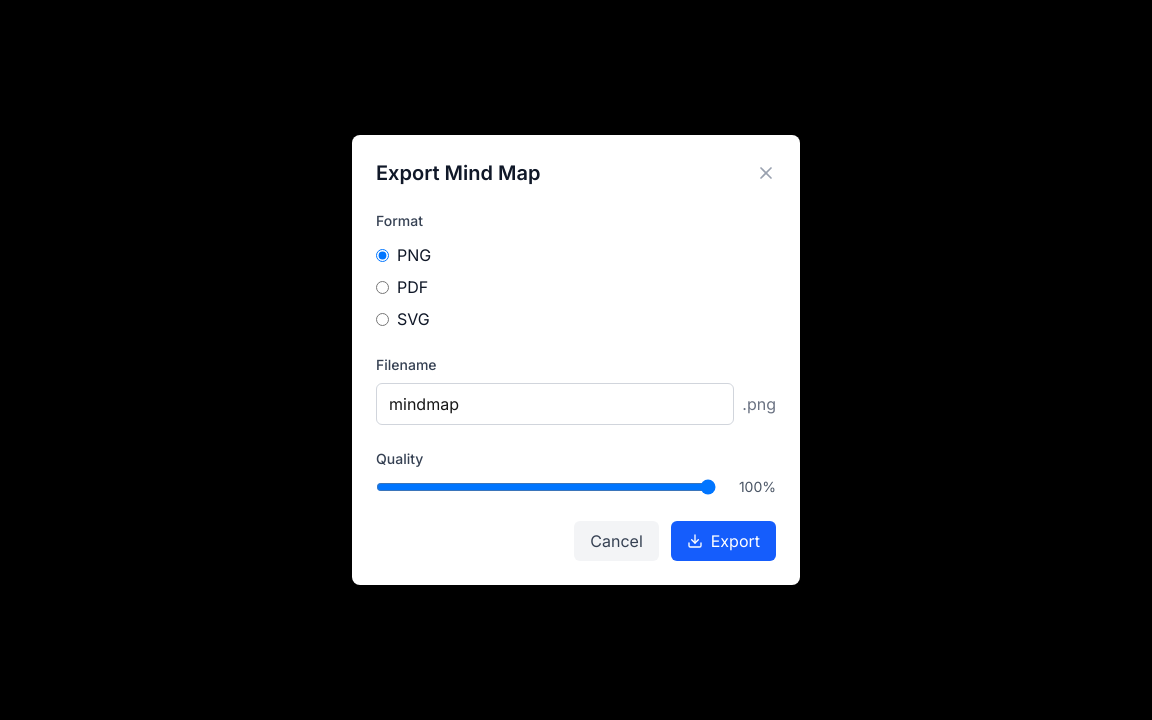
Test: ExportDialog › should hide quality slider for PDF format
This screenshot has width=1152, height=720.
Click the radio button labelled "PDF". click: (382, 287)
box: [376,280,389,294]
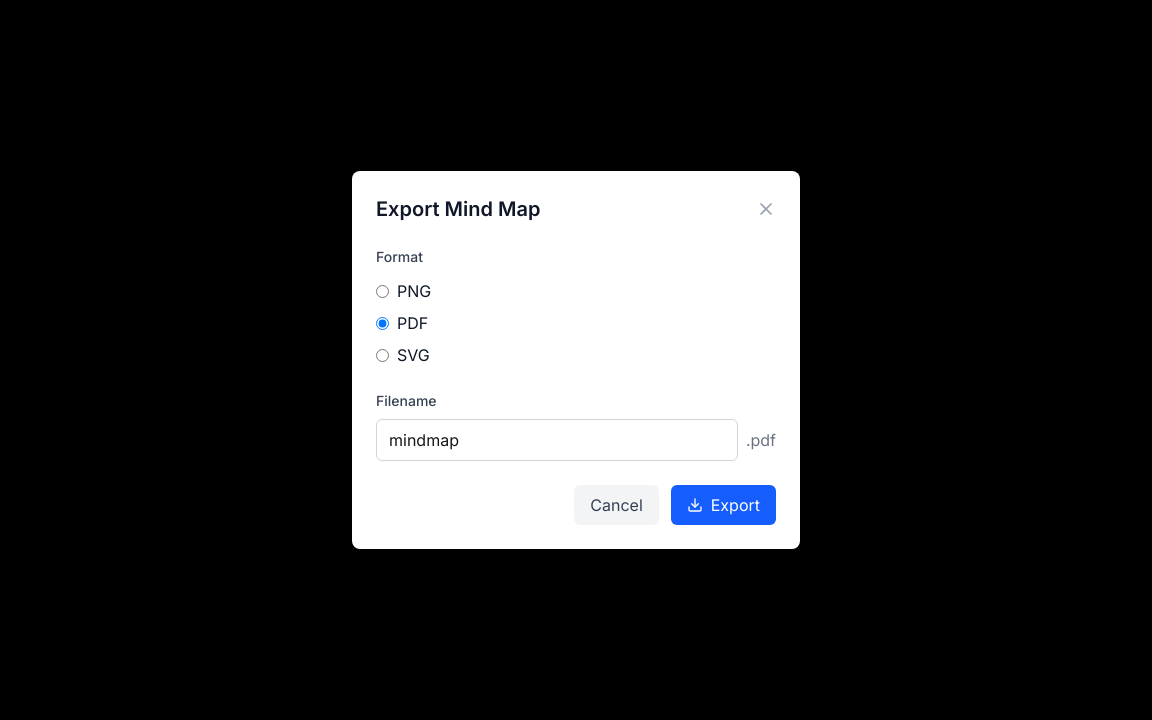
Expected: the label labelled "Quality" is gone
